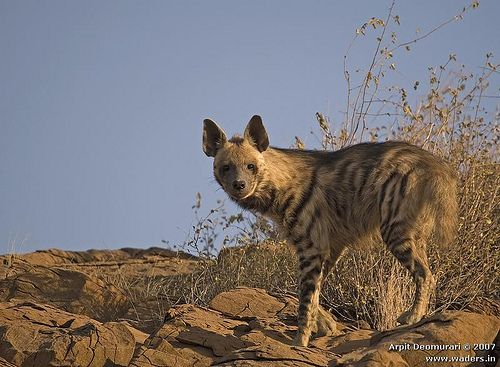hyena: (200, 113, 459, 340)
